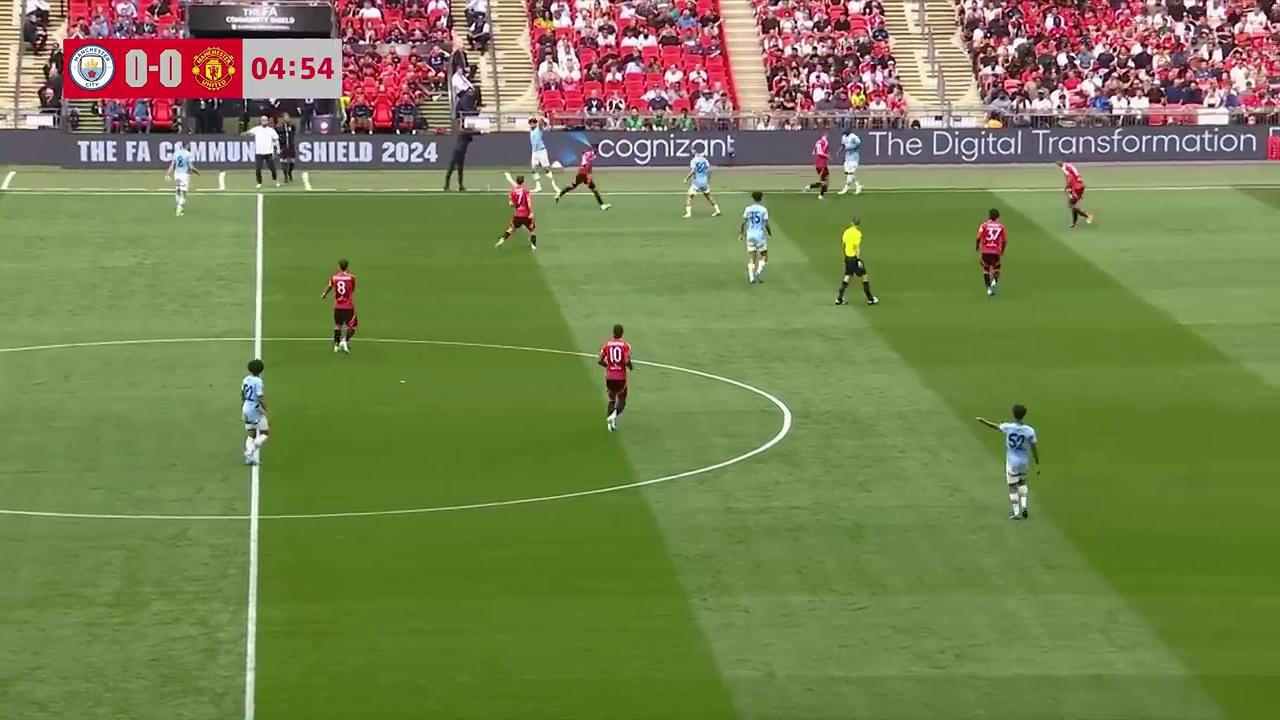player: (979, 404, 1040, 520), (597, 324, 633, 432), (320, 259, 357, 355), (494, 175, 537, 253), (239, 360, 269, 466), (561, 148, 609, 210), (739, 192, 771, 283), (976, 208, 1006, 298), (528, 118, 561, 190), (682, 157, 719, 218), (1059, 160, 1090, 228), (168, 139, 190, 215), (805, 140, 831, 199), (836, 139, 862, 195)
referee: (835, 215, 877, 305)
